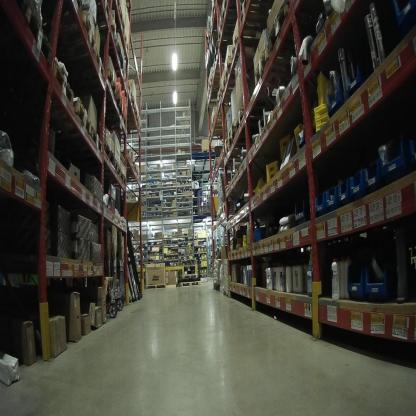pallet: (253, 43, 334, 88), (267, 4, 333, 53), (34, 96, 93, 138), (24, 61, 78, 104), (54, 11, 98, 57), (239, 0, 303, 30), (223, 53, 271, 89), (28, 6, 56, 67), (231, 30, 284, 62), (235, 112, 296, 136), (222, 76, 272, 103), (64, 56, 107, 86), (100, 87, 123, 115), (97, 66, 117, 92), (222, 146, 253, 162), (90, 125, 104, 155), (115, 100, 127, 128), (227, 117, 241, 140), (143, 281, 167, 294), (178, 278, 202, 290), (229, 127, 240, 151), (215, 87, 224, 107), (220, 137, 229, 149), (213, 281, 221, 291)
pallet_truck: (93, 225, 112, 329), (107, 221, 121, 330), (116, 232, 128, 310)
